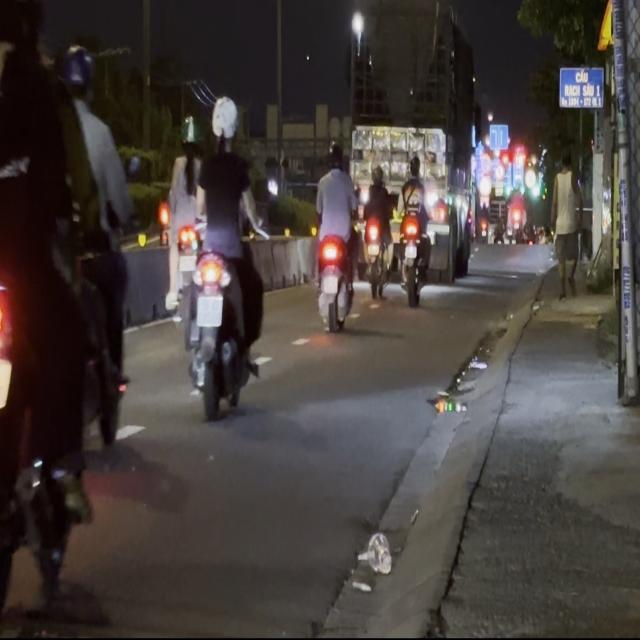helmet: (60, 42, 94, 103), (210, 95, 239, 150), (179, 115, 200, 156)
licenseplate: (0, 6, 119, 629), (54, 36, 134, 456), (185, 93, 264, 417)
nohelmet: (196, 295, 222, 326), (0, 358, 10, 407)
